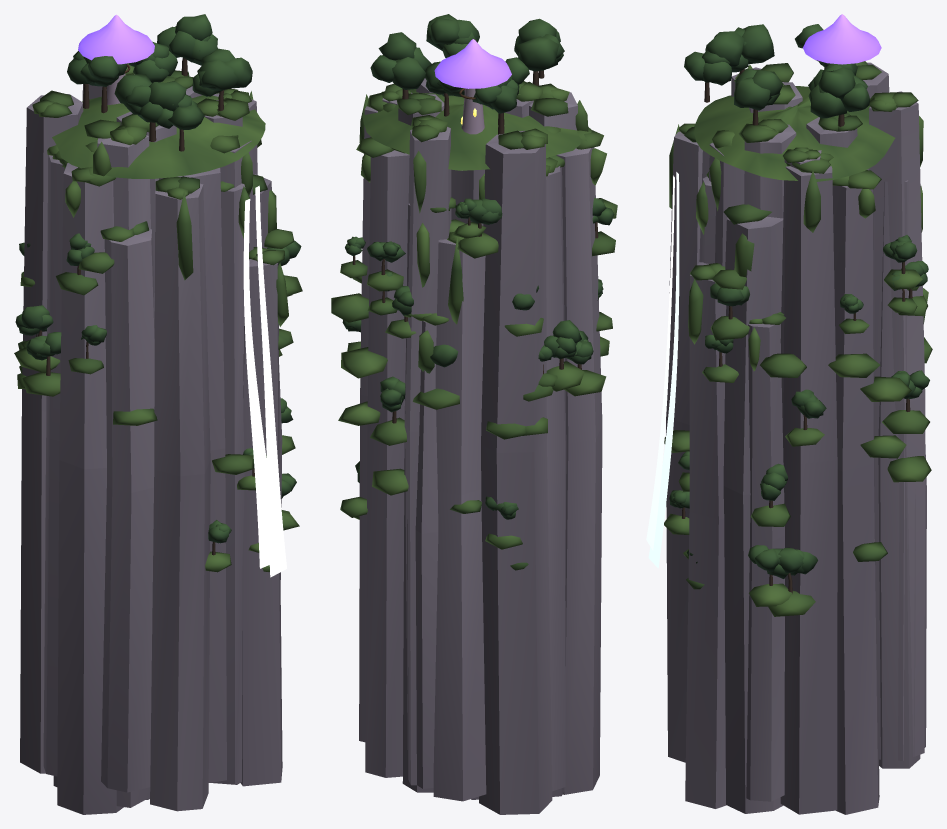
File: pillar.glb
The picture shows the model from 3 angles, left to right: view 1: azimuth 30°, elevation 25°; view 2: azimuth 150°, elevation 25°; view 3: azimuth 270°, elevation 25°; orthographic projection.
Parts seen in each view (by area): view 1: hero_valley_rock, hero_valley_moss, hero_valley_leaf, valley_falls, hero_valley_spire_cap, hero_valley_bark; view 2: hero_valley_rock, hero_valley_moss, hero_valley_leaf, hero_valley_spire_cap, hero_valley_bark, hero_valley_tower; view 3: hero_valley_rock, hero_valley_moss, hero_valley_leaf, valley_falls, hero_valley_spire_cap, hero_valley_bark.
Part boxes in pixels (x1,y1,x2,y2): hero_valley_rock: [20, 84, 282, 814]; hero_valley_moss: [14, 63, 302, 572]; hero_valley_leaf: [15, 14, 301, 543]; valley_falls: [243, 185, 286, 577]; hero_valley_spire_cap: [78, 14, 154, 64]; hero_valley_bark: [36, 58, 254, 555]; hero_valley_rock: [359, 78, 602, 814]; hero_valley_moss: [331, 81, 617, 570]; hero_valley_leaf: [342, 14, 614, 519]; hero_valley_spire_cap: [434, 39, 511, 88]; hero_valley_bark: [352, 70, 598, 423]; hero_valley_tower: [461, 88, 484, 134]; hero_valley_rock: [666, 62, 926, 814]; hero_valley_moss: [664, 61, 932, 616]; hero_valley_leaf: [669, 24, 929, 578]; valley_falls: [646, 172, 679, 568]; hero_valley_spire_cap: [803, 14, 881, 64]; hero_valley_bark: [682, 67, 912, 593].
Size of the model in its own units: 45.3 by 127 by 43.24.
